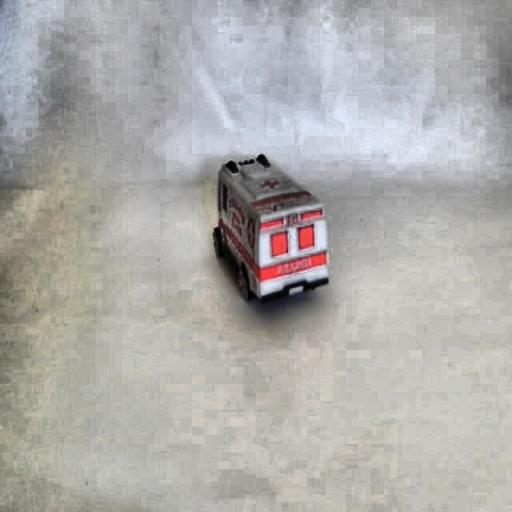ambulance: (212, 152, 329, 303)
